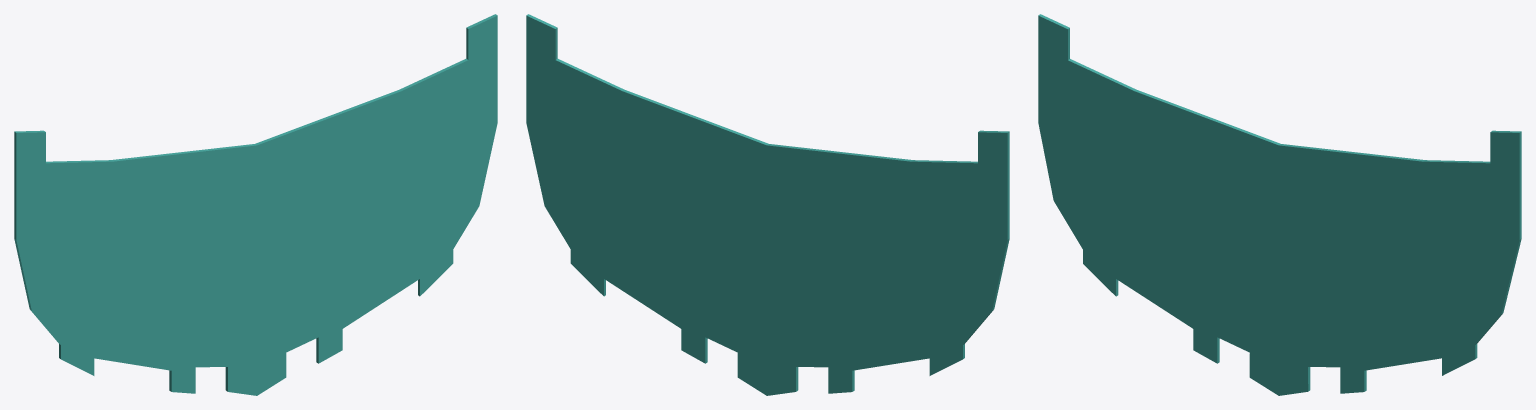
The model's file is tapiz.fbx.
The picture shows the model from 3 angles, left to right: view 1: azimuth 30°, elevation 25°; view 2: azimuth 150°, elevation 25°; view 3: azimuth 330°, elevation 25°; orthographic projection.
Visible parts, largest first — view 1: cosa que se cuelga; view 2: cosa que se cuelga; view 3: cosa que se cuelga.
Part boxes in pixels (<box>): cosa que se cuelga: <box>14,14,497,395</box>; cosa que se cuelga: <box>526,14,1009,395</box>; cosa que se cuelga: <box>1038,14,1521,395</box>.
Bounding box in the file's own units: 1173 × 749 × 8.98.
